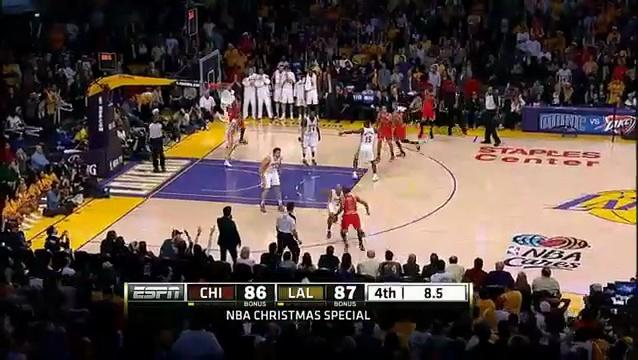Backboard: (199, 50, 221, 95)
Basket: (213, 81, 234, 99)
Person: (339, 186, 372, 251), (258, 147, 288, 214), (356, 119, 381, 182), (392, 106, 421, 157), (418, 87, 442, 144), (220, 110, 244, 166), (323, 182, 345, 241), (301, 109, 322, 170), (374, 104, 396, 162), (221, 86, 239, 132)
Referee: (477, 84, 504, 151), (272, 204, 302, 260), (147, 115, 168, 171)
Shot Clock: (184, 6, 201, 47), (97, 51, 117, 77)
person: (215, 204, 244, 264)
